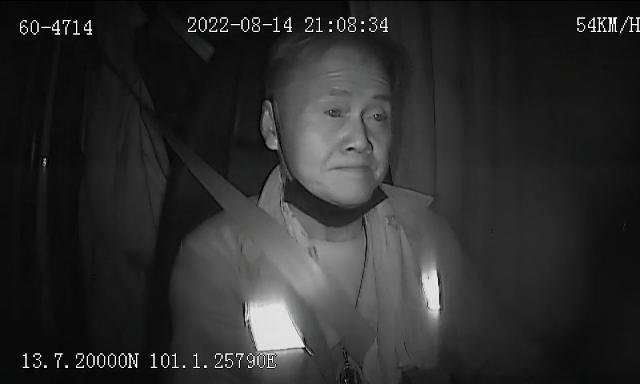SafeDriving: (360, 96, 395, 130), (318, 96, 352, 125)
Seatbelt: (170, 138, 372, 340)
